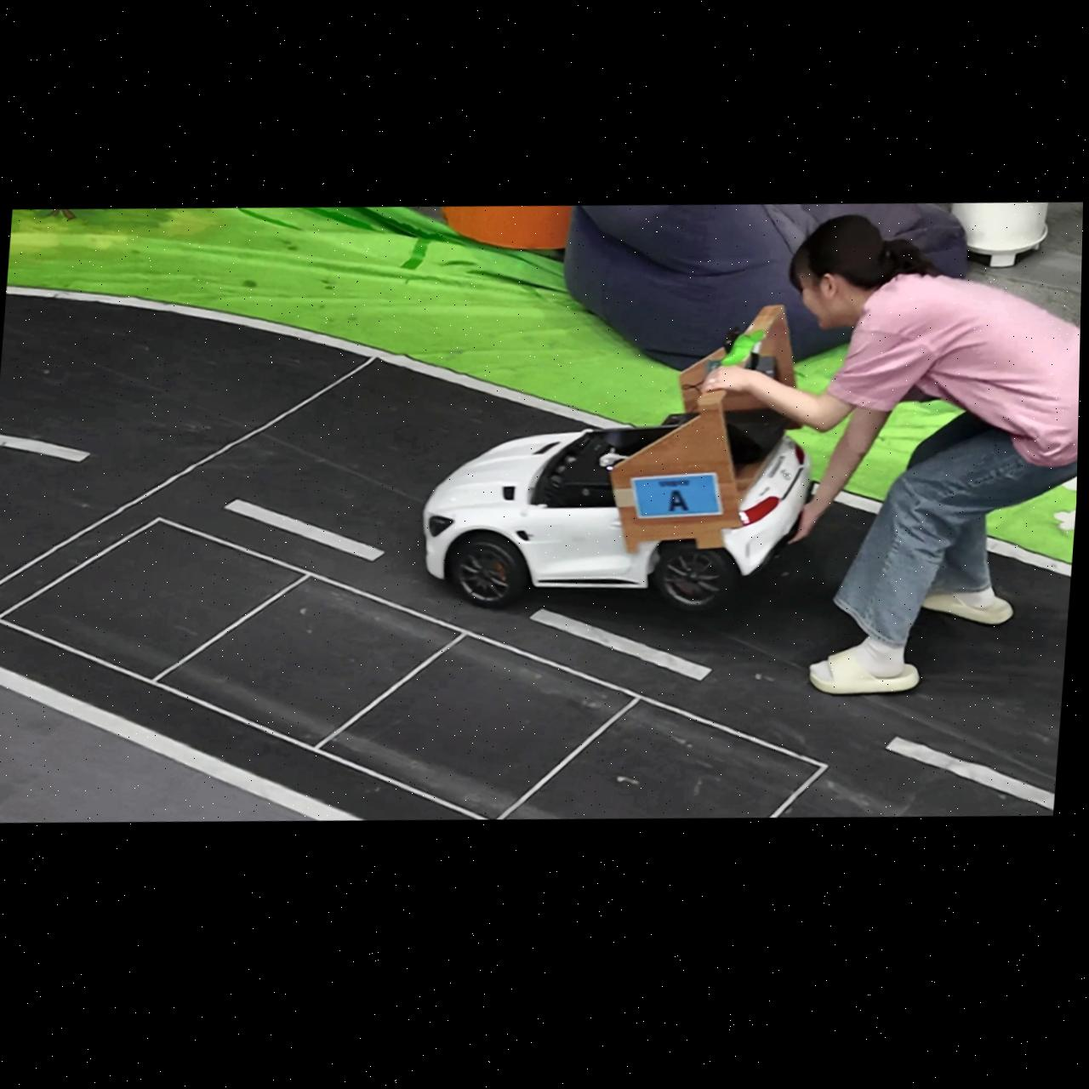broken_line: (530, 609, 711, 680), (886, 737, 1054, 810), (225, 499, 384, 559), (0, 433, 89, 461)
